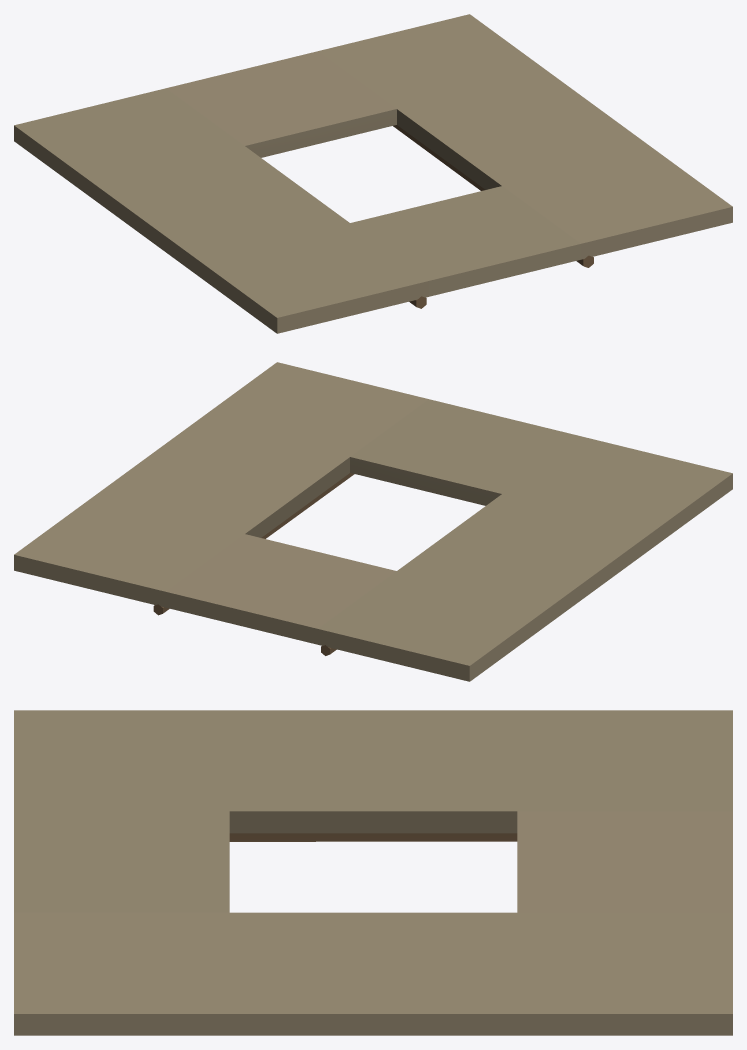
The model's file is roof_opening.glb.
3 renders of one model, top to bottom at view 1: azimuth 30°, elevation 25°; view 2: azimuth 150°, elevation 25°; view 3: azimuth 270°, elevation 25°, orthographic. The views are drawn at different scales.
Parts seen in each view (by area): view 1: roof_opening; view 2: roof_opening; view 3: roof_opening.
Part boxes in pixels (bbox=[...]): roof_opening: bbox=[14, 14, 732, 333]; roof_opening: bbox=[14, 362, 732, 681]; roof_opening: bbox=[14, 710, 732, 1035].
Bounding box in the file's own units: 6 × 0.33 × 6.
